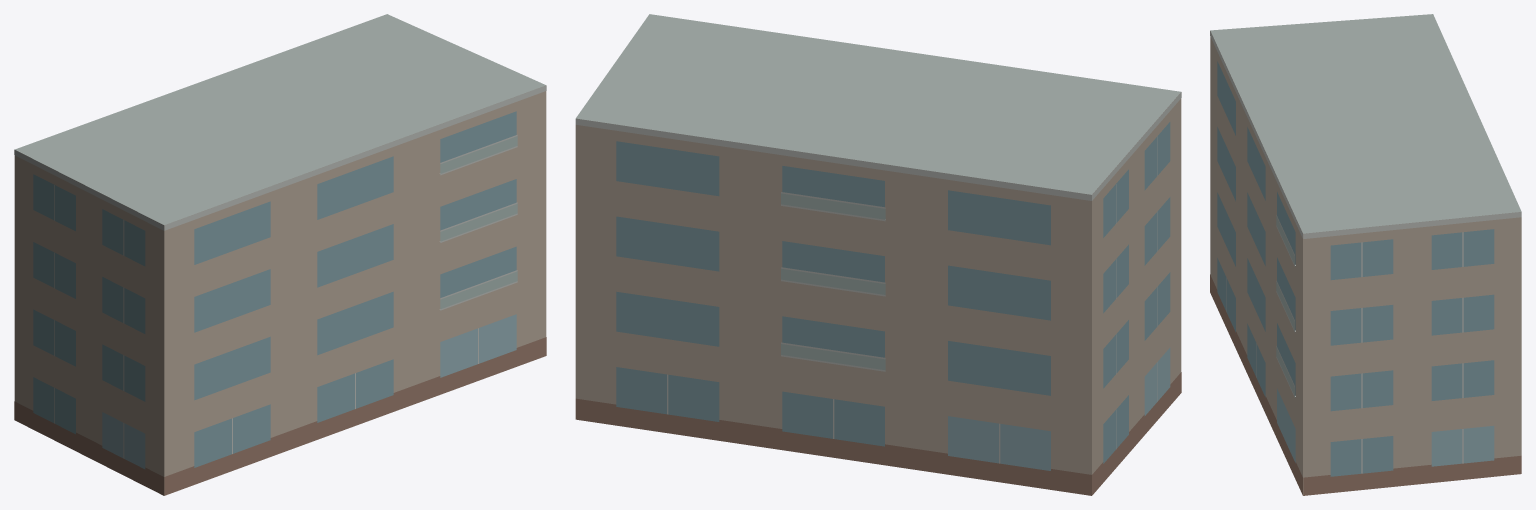
File: survey-upis-32821163.glb
3 views of the same model, side by side, from view 1: azimuth 30°, elevation 25°; view 2: azimuth 150°, elevation 25°; view 3: azimuth 270°, elevation 25° (orthographic). The views are drawn at different scales.
Parts seen in each view (by area): view 1: survey-upis-32821163.tmp; view 2: survey-upis-32821163.tmp; view 3: survey-upis-32821163.tmp.
Part boxes in pixels (x1,y1,x2,y2): survey-upis-32821163.tmp: (14, 14, 546, 495); survey-upis-32821163.tmp: (575, 14, 1181, 495); survey-upis-32821163.tmp: (1210, 14, 1521, 495).
Size of the model in its own units: 21.22 by 11.8 by 12.72.
